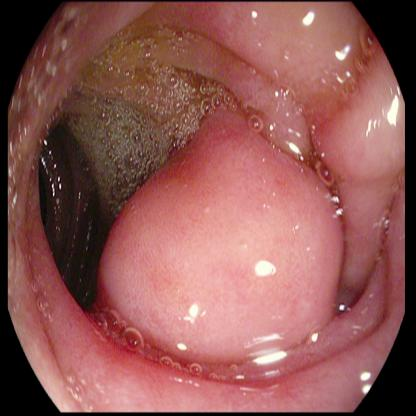Polyps: (103, 158, 340, 340)
